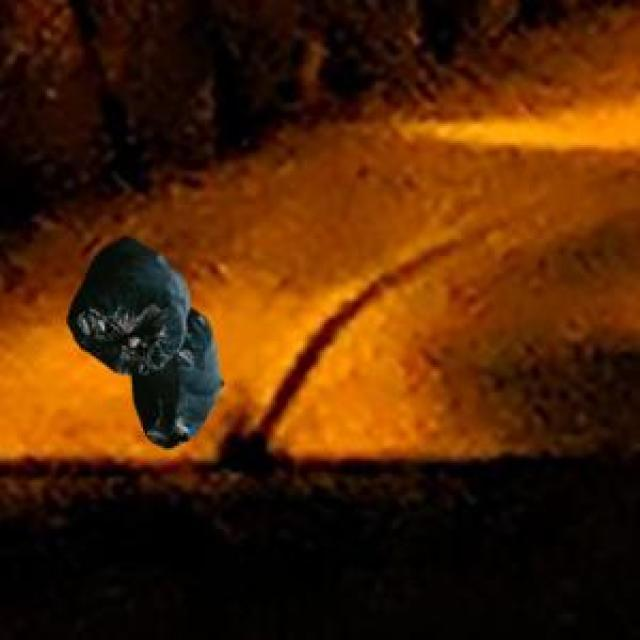waste: (68, 238, 222, 447)
